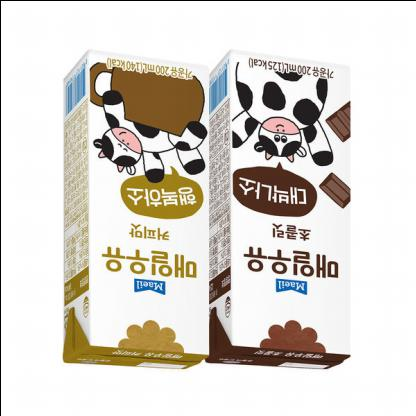tetra: (41, 43, 216, 386), (203, 41, 371, 389)
